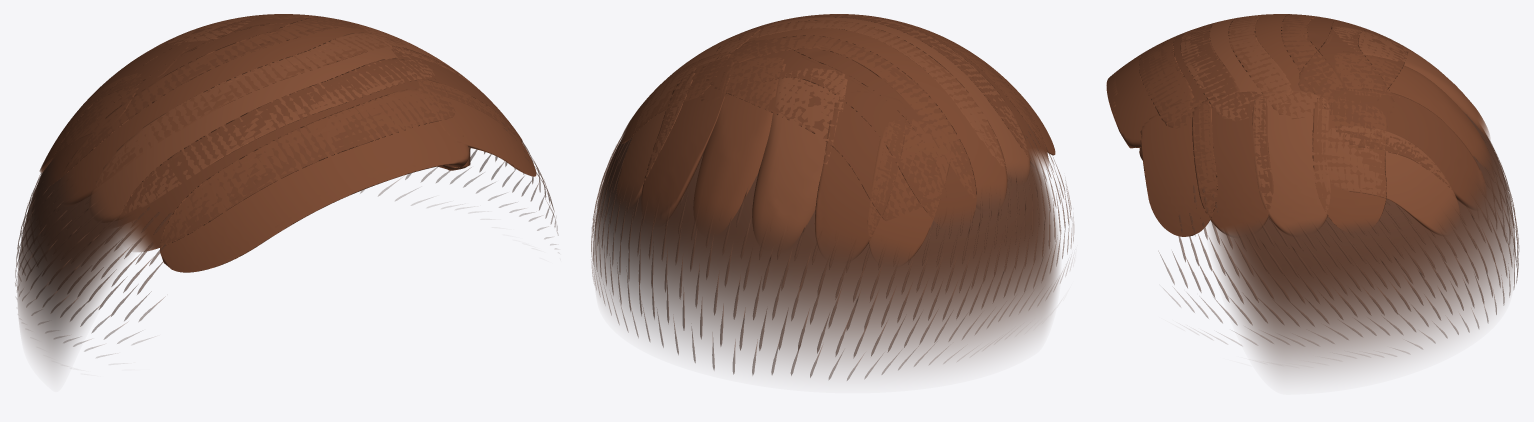
The model's file is Masculine-Masculine-taper-cap259-hair-b6342c16.glb.
3 renders of one model, left to right at view 1: azimuth 30°, elevation 25°; view 2: azimuth 150°, elevation 25°; view 3: azimuth 270°, elevation 25°, orthographic. The views are drawn at different scales.
Visible parts, largest first — view 1: 226 hair / Hair258 / sculpted side sweep 1, 226 hair / Hair258 / sculpted side sweep 0, 226 hair / Hair258 / sculpted side sweep 2, 226 hair / Hair258 / smooth side fade, 226 hair / Hair259 / directional fade marks214; view 2: 226 hair / Hair258 / smooth side fade, 226 hair / Hair258 / sculpted side sweep 0, 226 hair / Hair258 / sculpted side sweep 1, 226 hair / Hair258 / sculpted side sweep 2, 226 hair / Hair259 / directional fade marks214; view 3: 226 hair / Hair258 / smooth side fade, 226 hair / Hair258 / sculpted side sweep 1, 226 hair / Hair258 / sculpted side sweep 0, 226 hair / Hair258 / sculpted side sweep 2, 226 hair / Hair259 / directional fade marks214.
Boxes of the visible parts, x1,y1,x2,y2 form: 226 hair / Hair258 / sculpted side sweep 1: (39, 14, 536, 272); 226 hair / Hair258 / sculpted side sweep 0: (47, 14, 522, 251); 226 hair / Hair258 / sculpted side sweep 2: (89, 17, 483, 222); 226 hair / Hair258 / smooth side fade: (17, 158, 134, 369); 226 hair / Hair259 / directional fade marks214: (15, 120, 558, 357); 226 hair / Hair258 / smooth side fade: (593, 136, 1058, 371); 226 hair / Hair258 / sculpted side sweep 0: (641, 14, 1048, 259); 226 hair / Hair258 / sculpted side sweep 1: (620, 14, 1055, 264); 226 hair / Hair258 / sculpted side sweep 2: (617, 14, 1030, 248); 226 hair / Hair259 / directional fade marks214: (591, 124, 1073, 380); 226 hair / Hair258 / smooth side fade: (1208, 111, 1515, 375); 226 hair / Hair258 / sculpted side sweep 1: (1106, 14, 1491, 236); 226 hair / Hair258 / sculpted side sweep 0: (1139, 14, 1486, 236); 226 hair / Hair258 / sculpted side sweep 2: (1180, 14, 1489, 235); 226 hair / Hair259 / directional fade marks214: (1160, 127, 1519, 356).
Bounding box in the file's own units: 0.9722 × 0.611 × 0.8358.
